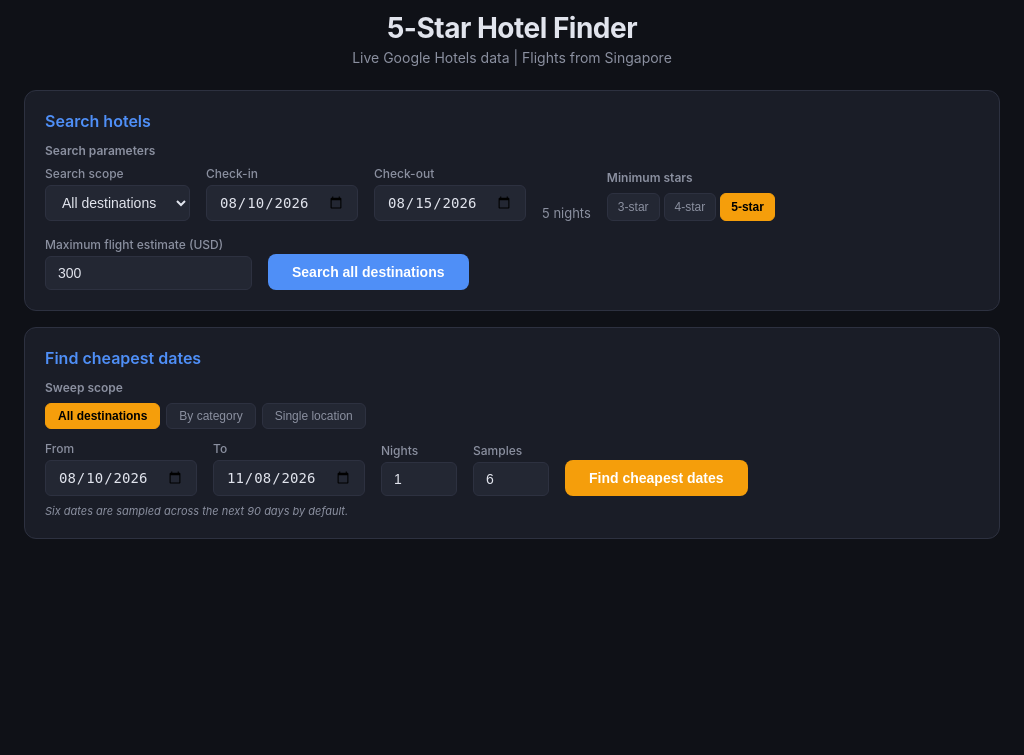
Scenario: latest search and comparison ownership › routes accessible single-destination and all-destination searches with their submitted payloads
The image size is (1024, 755).
Expected: the button "Find cheapest dates" is enabled, [565,460,748,496]
Select "One destination" in the dropdown labelled "Search scope" at point(118, 203), box [45,185,190,221]
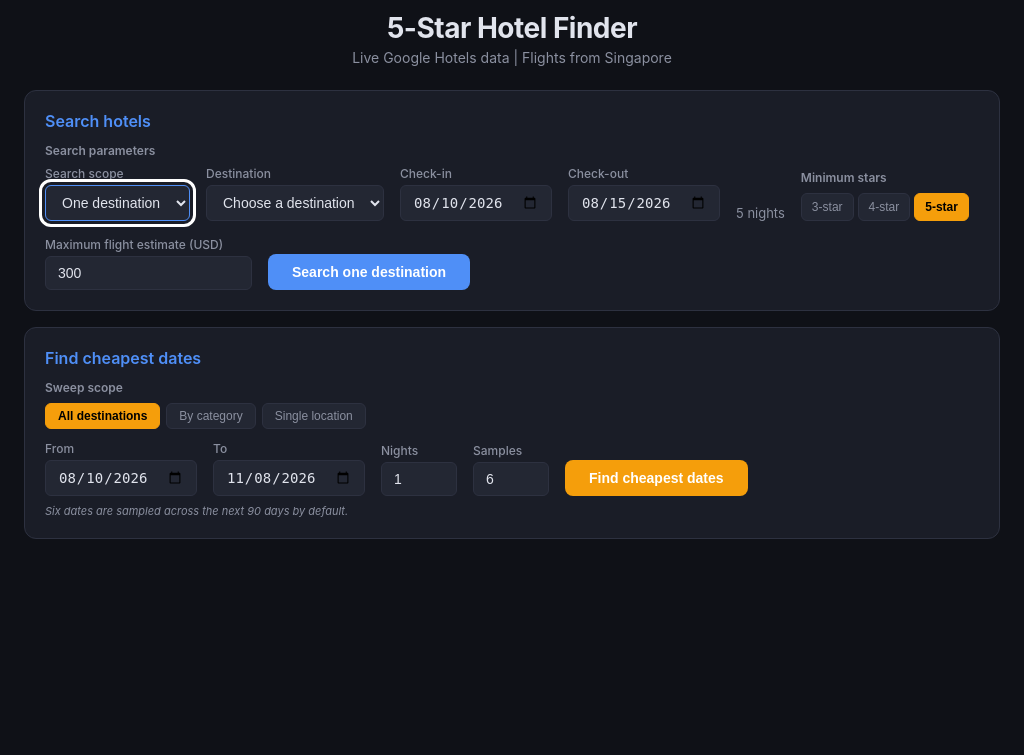
Select "Phuket" in the dropdown labelled "Destination" at point(295, 203), box [206,185,384,221]
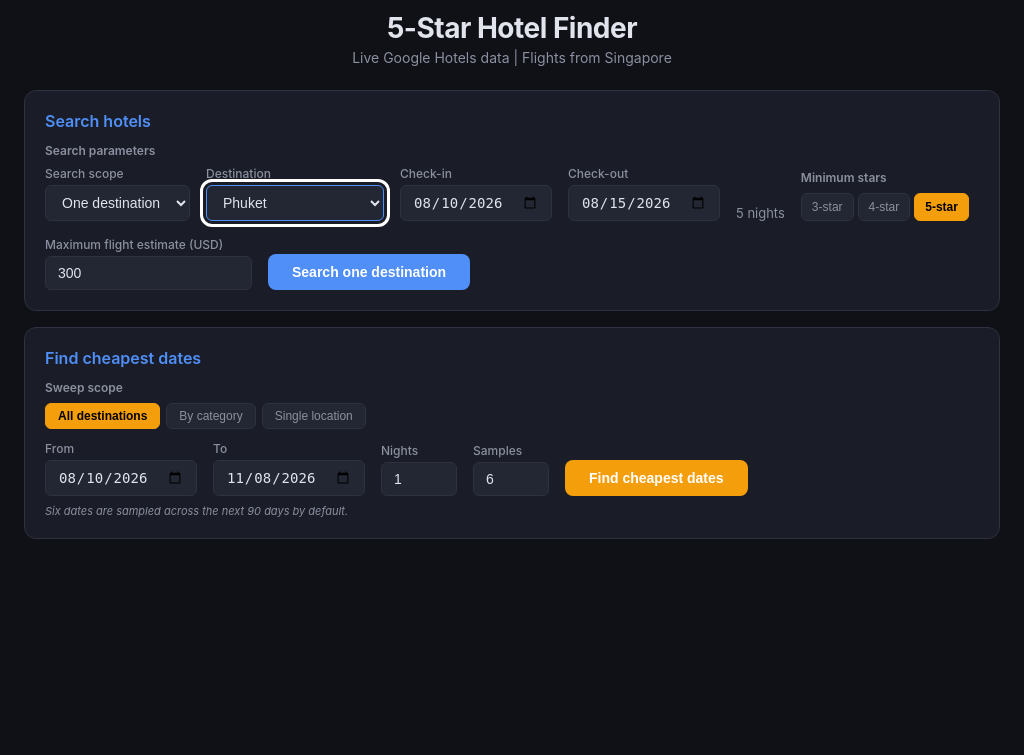
Click the button "Search one destination" at point(369, 272), box [268,254,470,290]
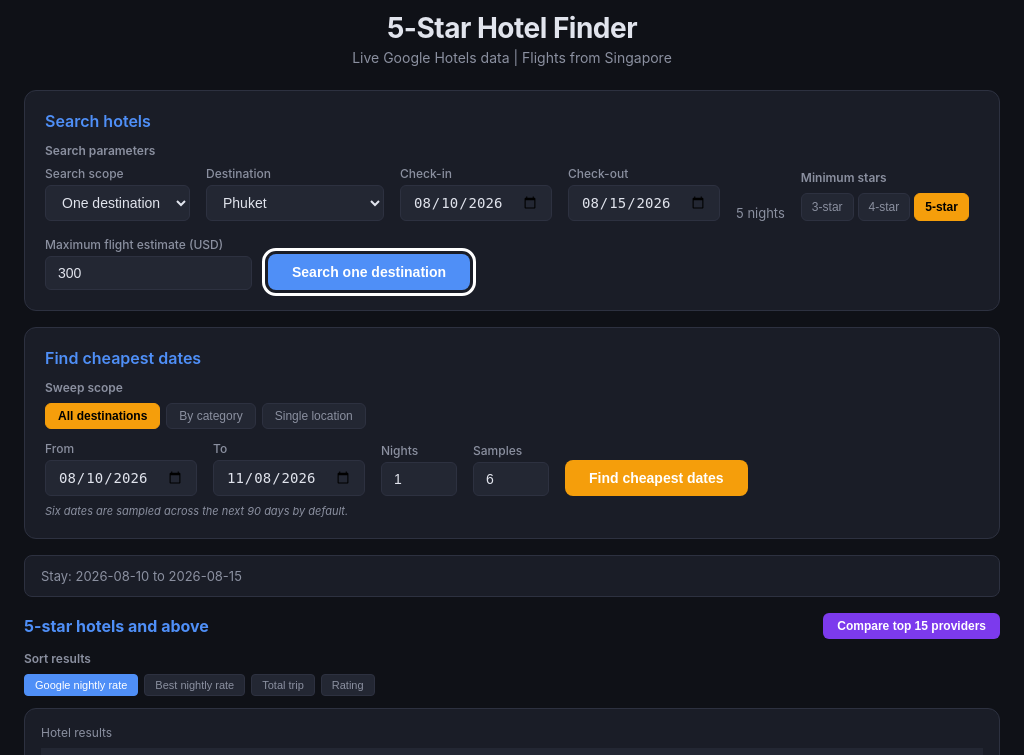
Select "All destinations" in the dropdown labelled "Search scope" at point(118, 203), box [45,185,190,221]
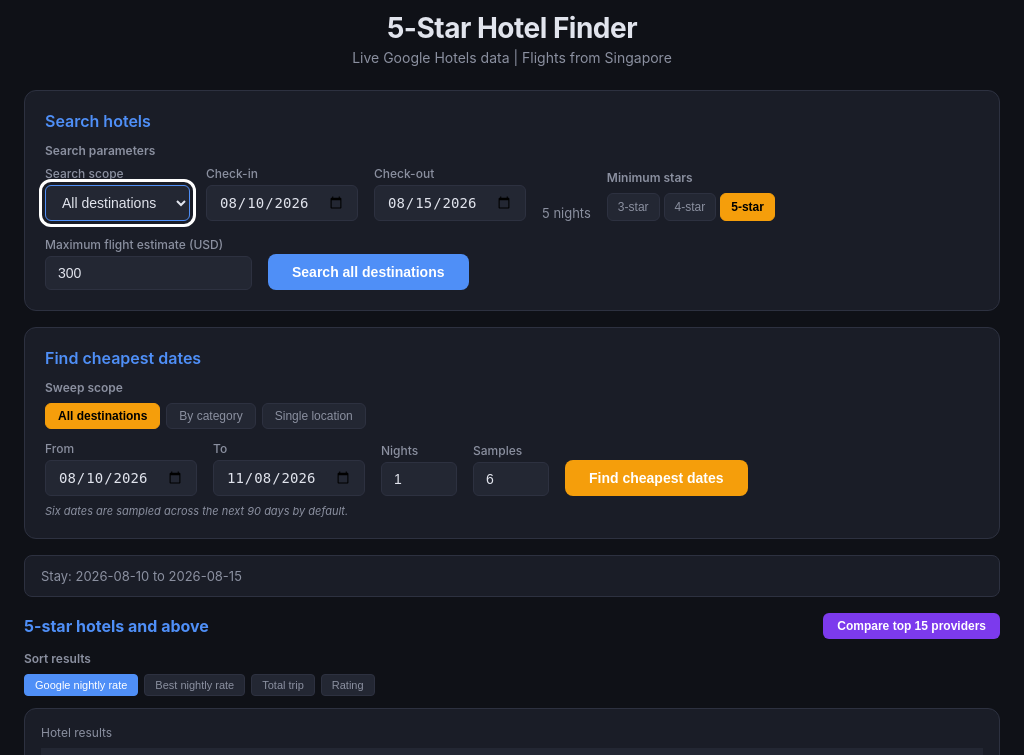
Click the button "Search all destinations" at point(368, 272), box [268,254,468,290]
(page scrolled)
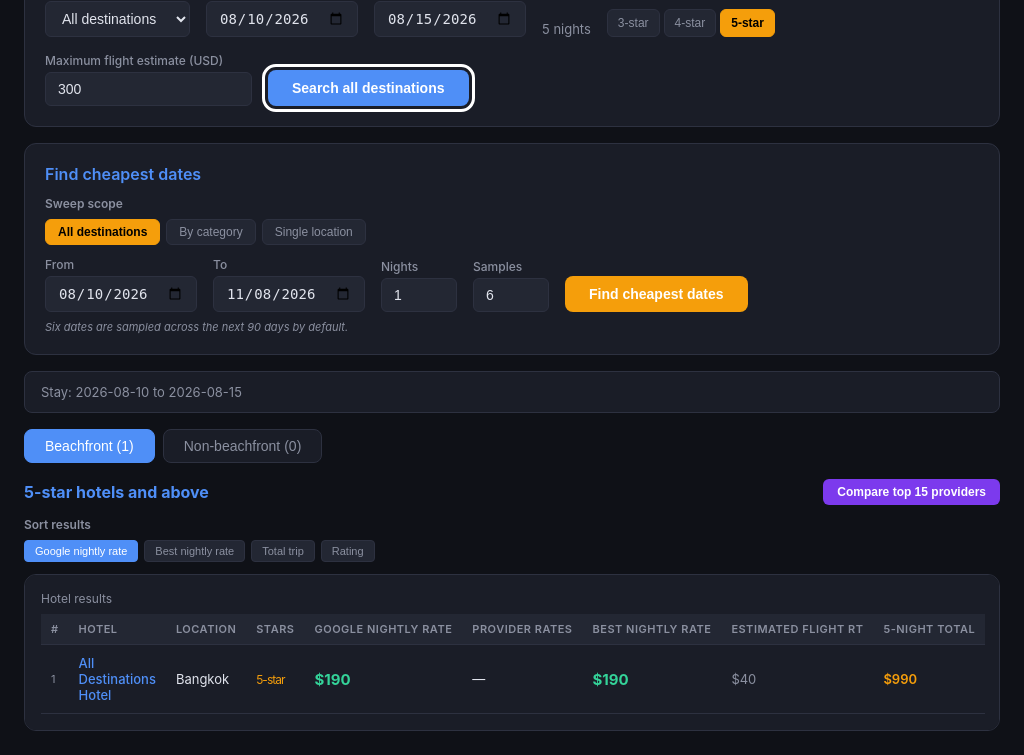
Result: the link "All Destinations Hotel" is shown at [79,655,156,703]
